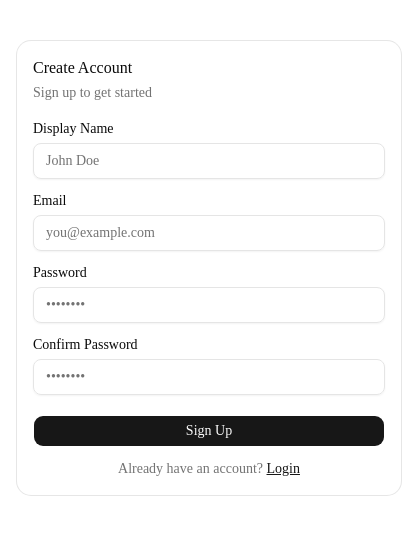
Test case: SignupPage › shows email-already-in-use error
The width and height of the screenshot is (419, 537).
Type "Test User" into the field labelled "Display Name" at (209, 161), box [33,143,385,179]
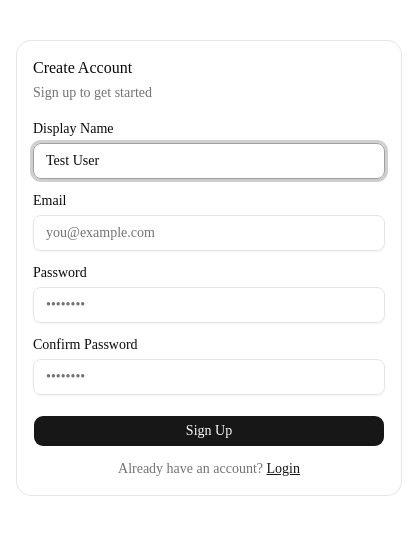
Type "exists@test.com" into the field labelled "Email" at (209, 233), box [33,215,385,251]
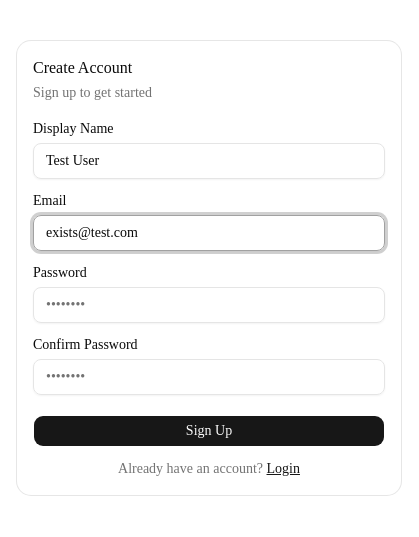
Type "password123" into the password field labelled "Password" at (209, 305), box [33,287,385,323]
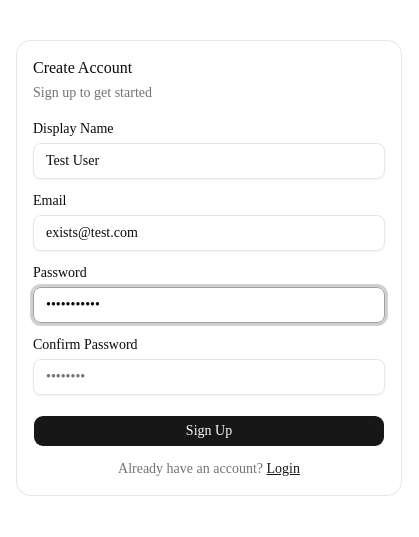
Type "password123" into the password field labelled "Confirm Password" at (209, 377), box [33,359,385,395]
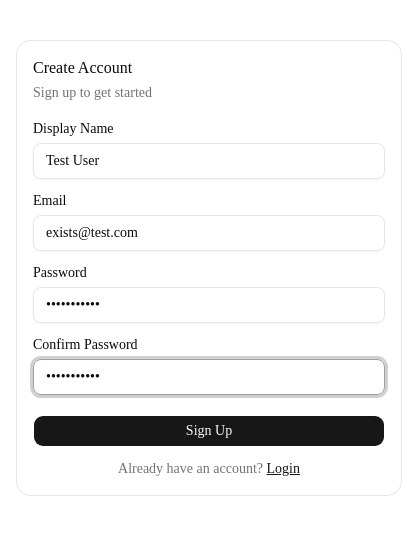
Click the button "Sign Up" at (209, 431), box [33,415,385,447]
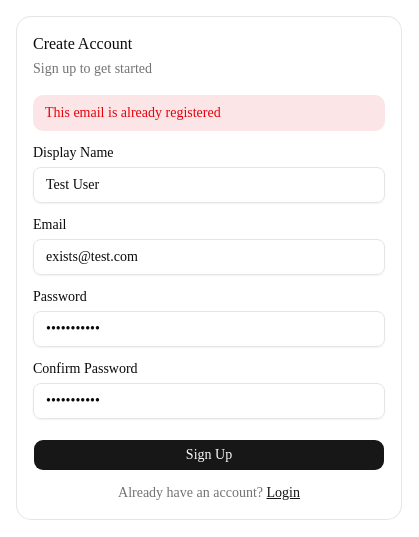
Expected: the text "This email is already registered" is shown, [33,95,385,131]
